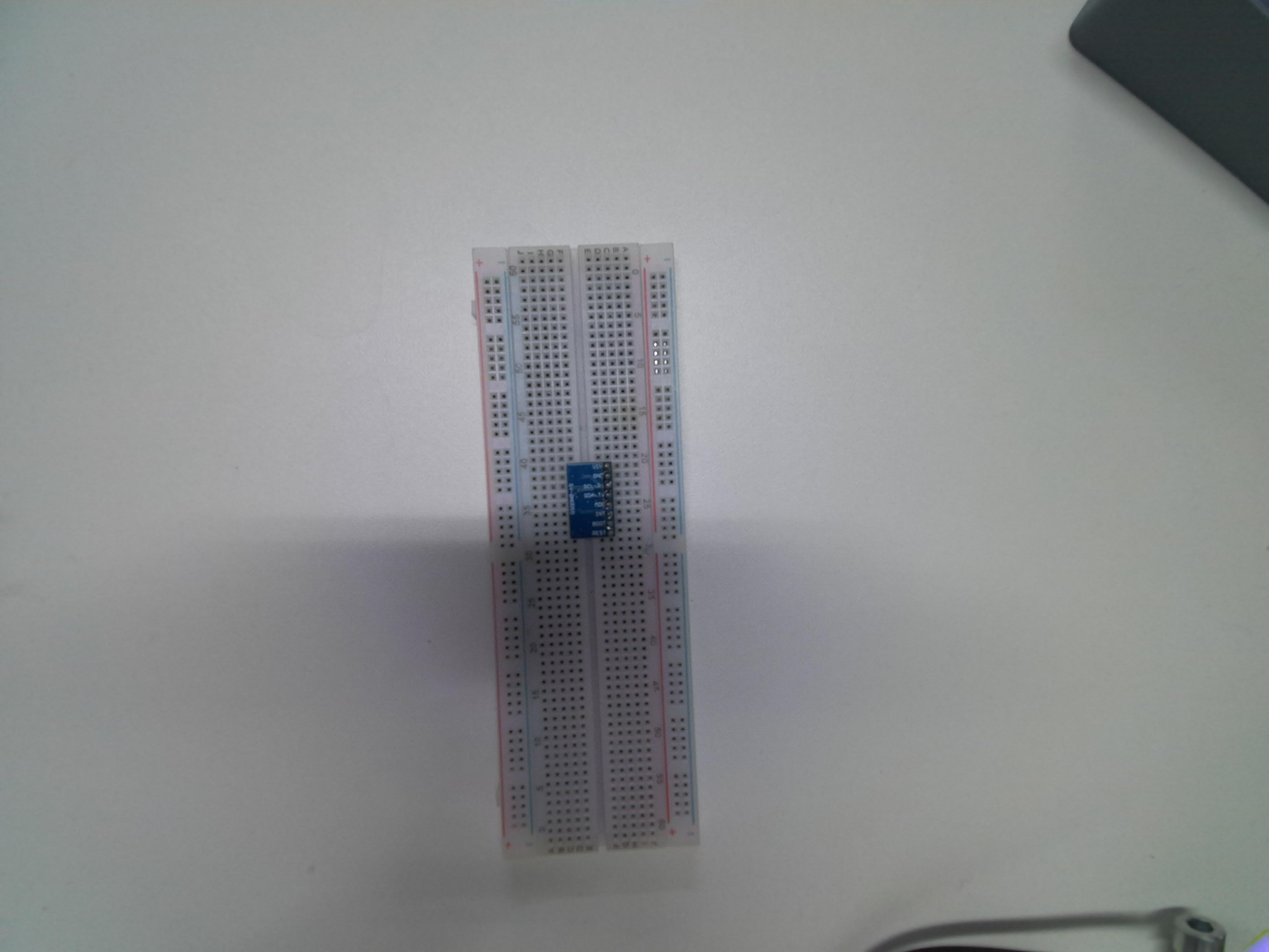base: (471, 241, 699, 865)
blue-board: (562, 461, 620, 539)
